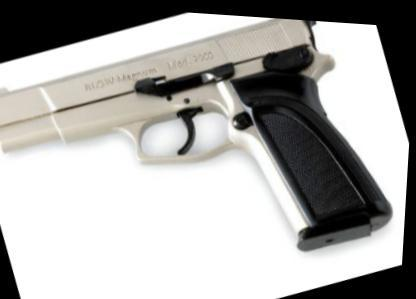pistol: (0, 0, 410, 297)
